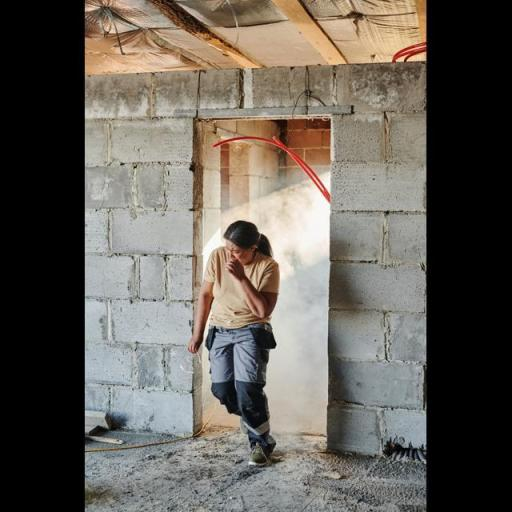Person: (183, 210, 311, 477)
boots: (225, 424, 291, 472)
none: (200, 249, 275, 337), (222, 217, 276, 263), (222, 256, 248, 280), (184, 333, 212, 354)
